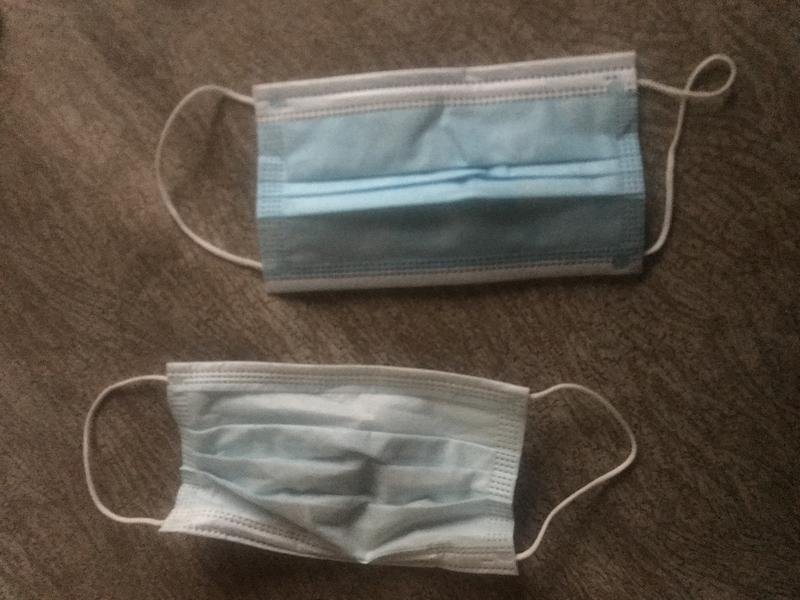medical_mask: (155, 53, 733, 293), (81, 361, 637, 580)
